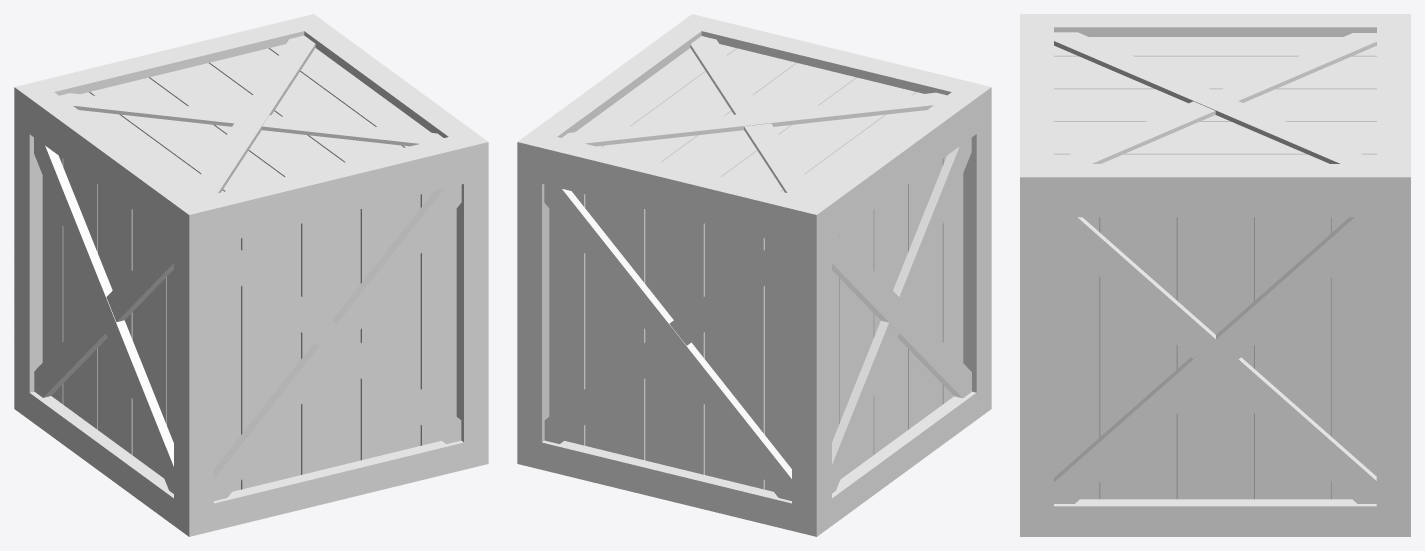
File: Prop_Crate_Box_01.glb
3 views of the same model, side by side, from view 1: azimuth 30°, elevation 25°; view 2: azimuth 150°, elevation 25°; view 3: azimuth 270°, elevation 25° (orthographic). The views are drawn at different scales.
Parts seen in each view (by area): view 1: Prop_Crate_Box_01; view 2: Prop_Crate_Box_01; view 3: Prop_Crate_Box_01.
Boxes of the visible parts, <box> form: Prop_Crate_Box_01: <box>14,14,488,536</box>; Prop_Crate_Box_01: <box>517,14,991,536</box>; Prop_Crate_Box_01: <box>1020,14,1410,536</box>.
Bounding box in the file's own units: 0.75 × 0.7704 × 0.7584.
1 material, 1 textured.
